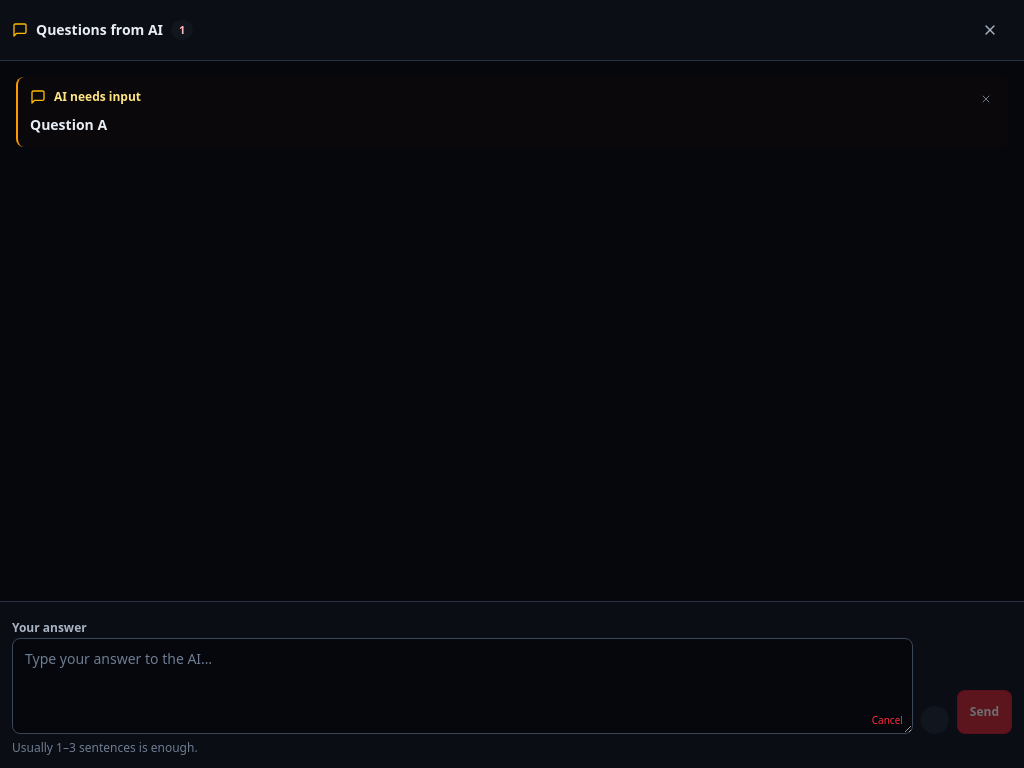
QuestionPanel › send: a failed submit keeps the draft, shows the error, and re-enables
The width and height of the screenshot is (1024, 768).
Type "answer" into the text box labelled "Your answer" at (462, 686), box [12,638,913,734]
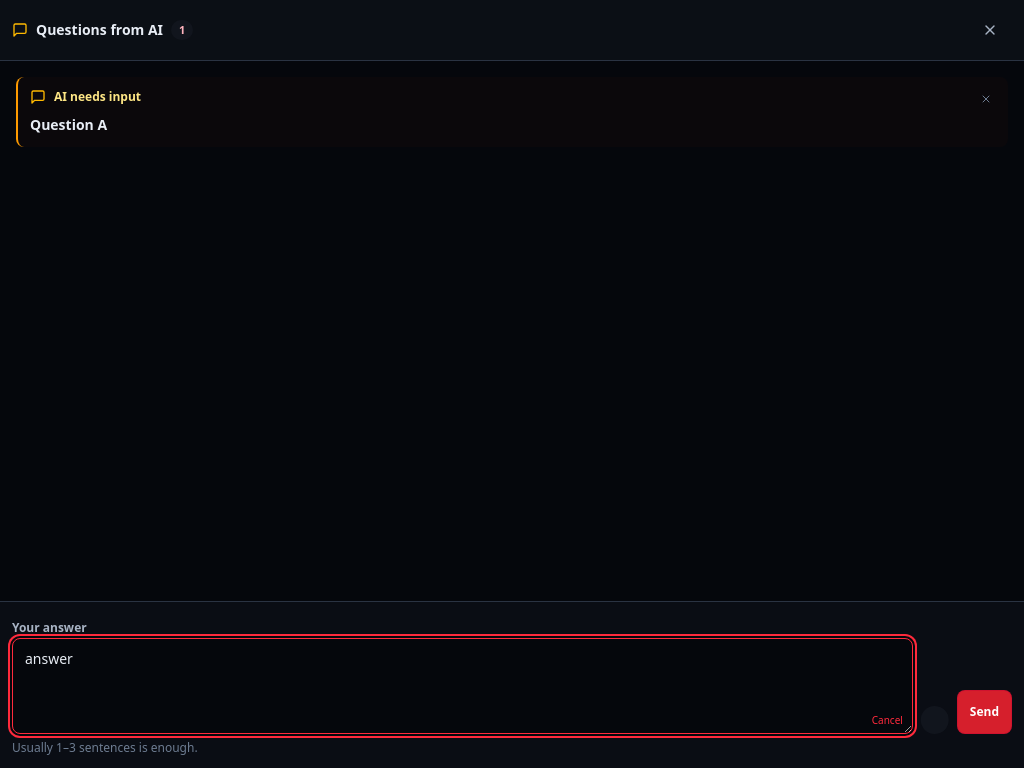
Click the button with aria-label "Send answer" at (984, 712), box [957,690,1012,734]
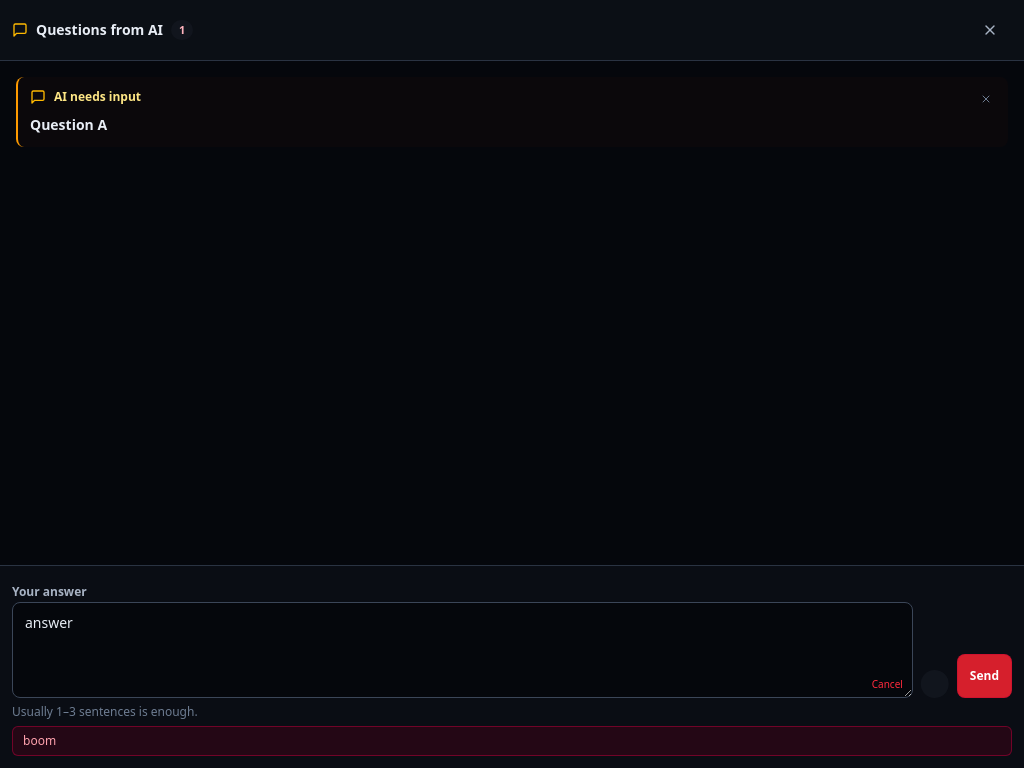
Check: the button with aria-label "Send answer" is enabled, box [957,654,1012,698]
Check: the message reads "boom", box [23,732,56,749]
